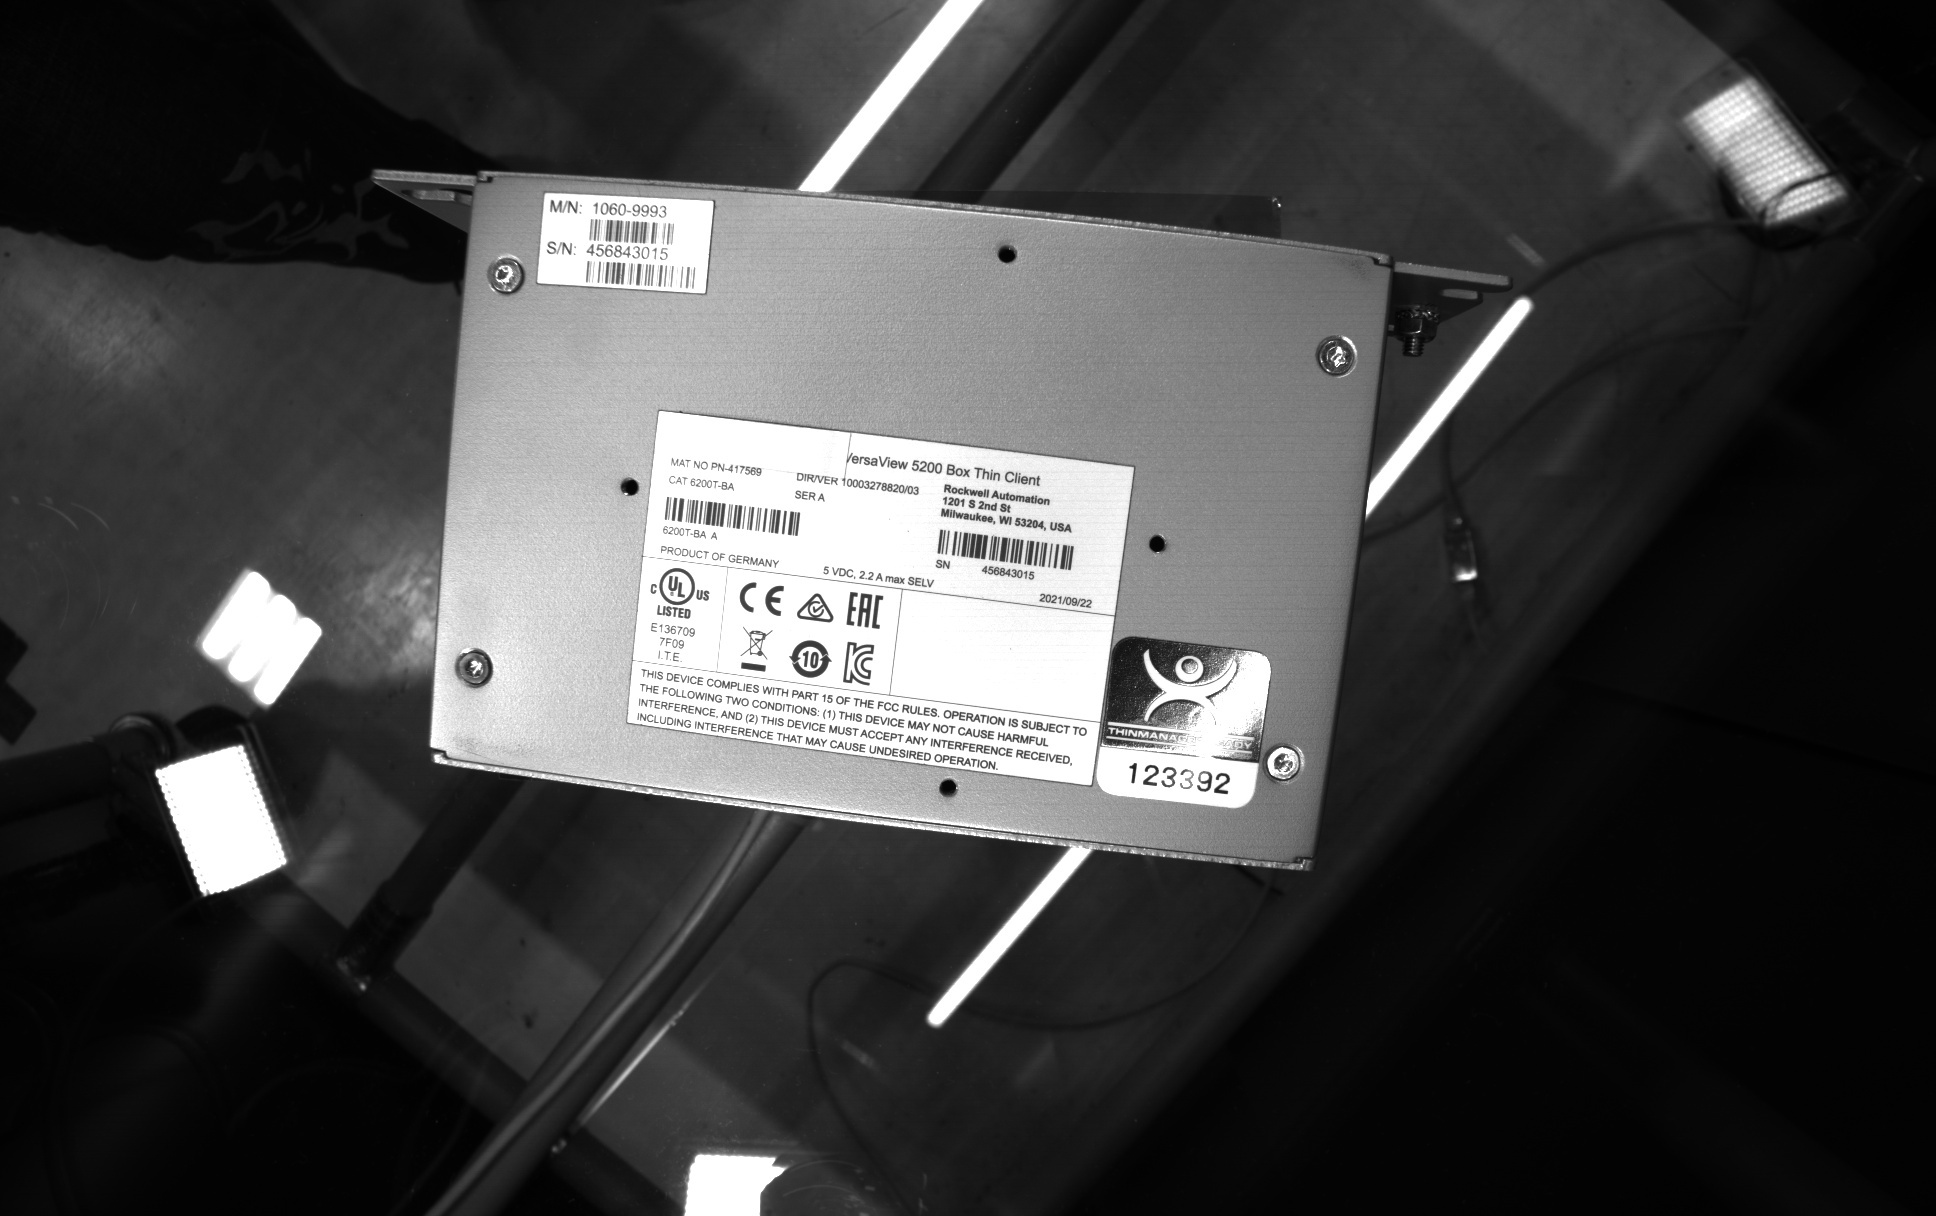Barcode: (930, 525, 1080, 577), (658, 490, 804, 544), (579, 258, 705, 294), (580, 216, 679, 249)
CamTop: (419, 151, 1411, 890)
Label_Seriennummer: (619, 399, 1145, 796)
Loch_Montage: (609, 461, 650, 506), (927, 772, 969, 811), (1138, 523, 1177, 563), (986, 234, 1025, 270)
Schraube: (1306, 329, 1362, 382), (448, 637, 499, 693), (1262, 735, 1313, 790), (480, 249, 530, 303)
